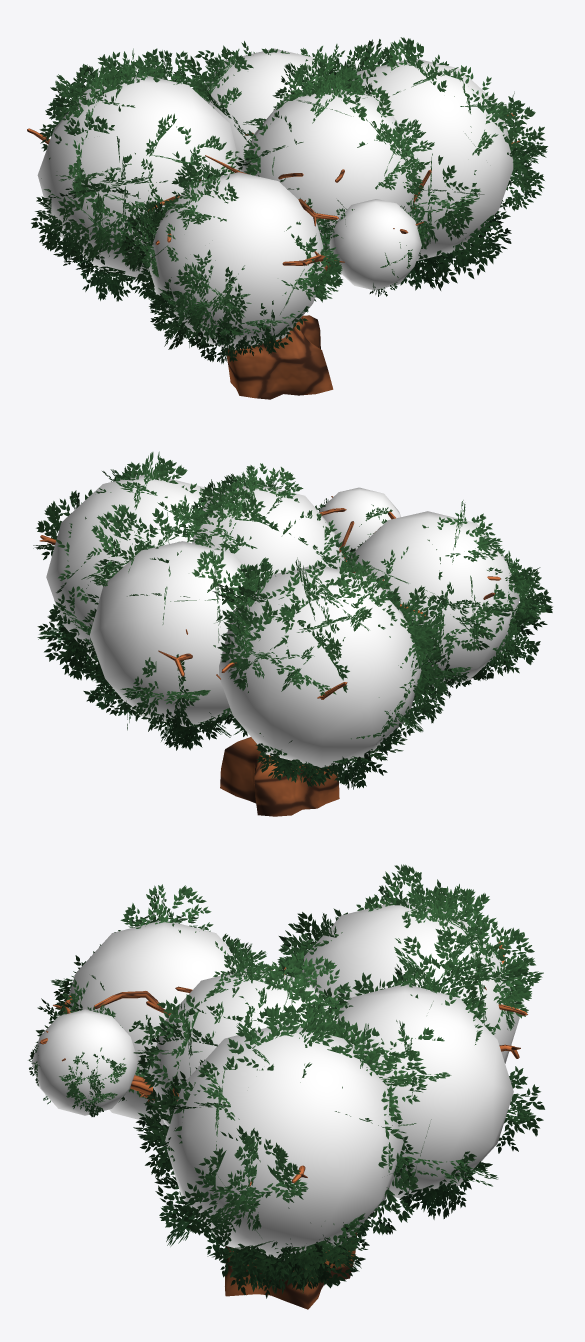
The model's file is jpine.gltf.
3 views of the same model, one above another, from view 1: azimuth 30°, elevation 25°; view 2: azimuth 150°, elevation 25°; view 3: azimuth 270°, elevation 25° (orthographic). The views are drawn at different scales.
Visible parts, largest first — view 1: jpine_shadow_LOD0, jpine_leaves_LOD0, jpine_trunk_LOD0; view 2: jpine_shadow_LOD0, jpine_leaves_LOD0, jpine_trunk_LOD0; view 3: jpine_shadow_LOD0, jpine_leaves_LOD0, jpine_trunk_LOD0.
Boxes of the visible parts, <box> form: jpine_shadow_LOD0: <box>37,48,513,349</box>; jpine_leaves_LOD0: <box>31,37,547,363</box>; jpine_trunk_LOD0: <box>27,113,519,399</box>; jpine_shadow_LOD0: <box>46,474,519,767</box>; jpine_leaves_LOD0: <box>33,451,552,789</box>; jpine_trunk_LOD0: <box>39,496,500,816</box>; jpine_shadow_LOD0: <box>31,901,519,1260</box>; jpine_leaves_LOD0: <box>28,864,544,1298</box>; jpine_trunk_LOD0: <box>39,941,527,1309</box>.
Size of what is drawn, in the model's own units: 9.46 by 6.14 by 8.31.
3 materials, 2 textured.
